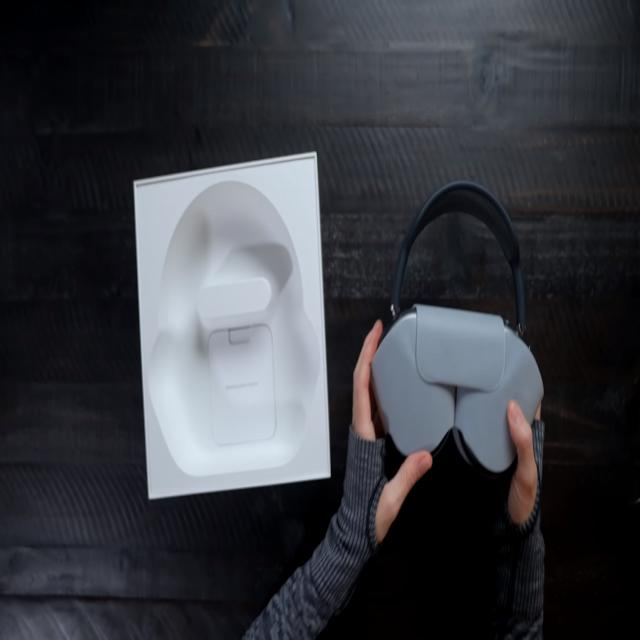Headphone: (368, 178, 547, 480)
